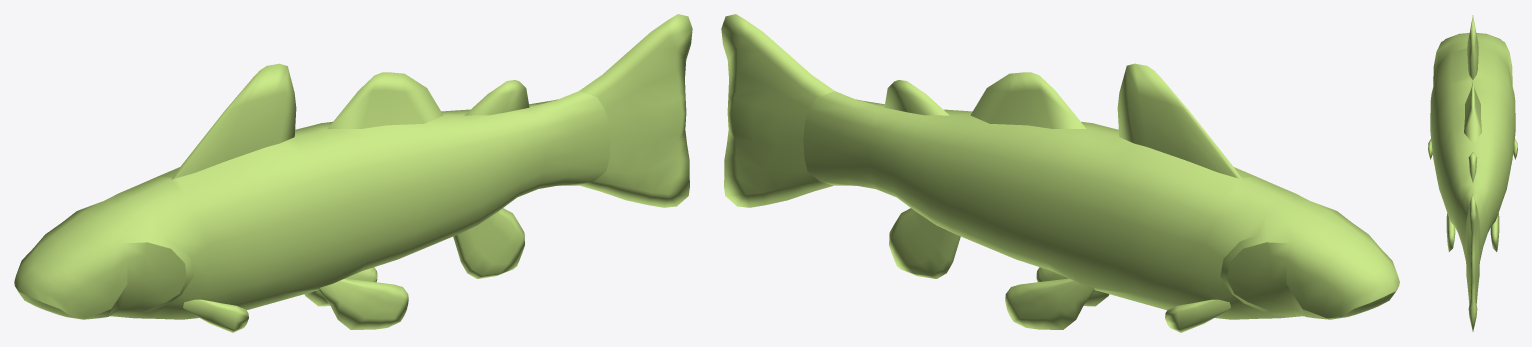
Rendered from fish 2 SUBSTANCE.fbx.
3 renders of one model, left to right at view 1: azimuth 30°, elevation 25°; view 2: azimuth 150°, elevation 25°; view 3: azimuth 270°, elevation 25°, orthographic. The views are drawn at different scales.
Visible parts, largest first — view 1: fish test; view 2: fish test; view 3: fish test.
Part boxes in pixels (bbox=[...]): fish test: bbox=[14, 14, 692, 332]; fish test: bbox=[721, 14, 1399, 332]; fish test: bbox=[1428, 15, 1517, 331].
Bounding box in the file's own units: 0.0787 × 0.1929 × 0.4932.
